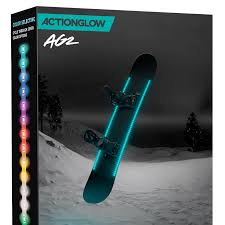snowboard: (82, 52, 157, 204)
